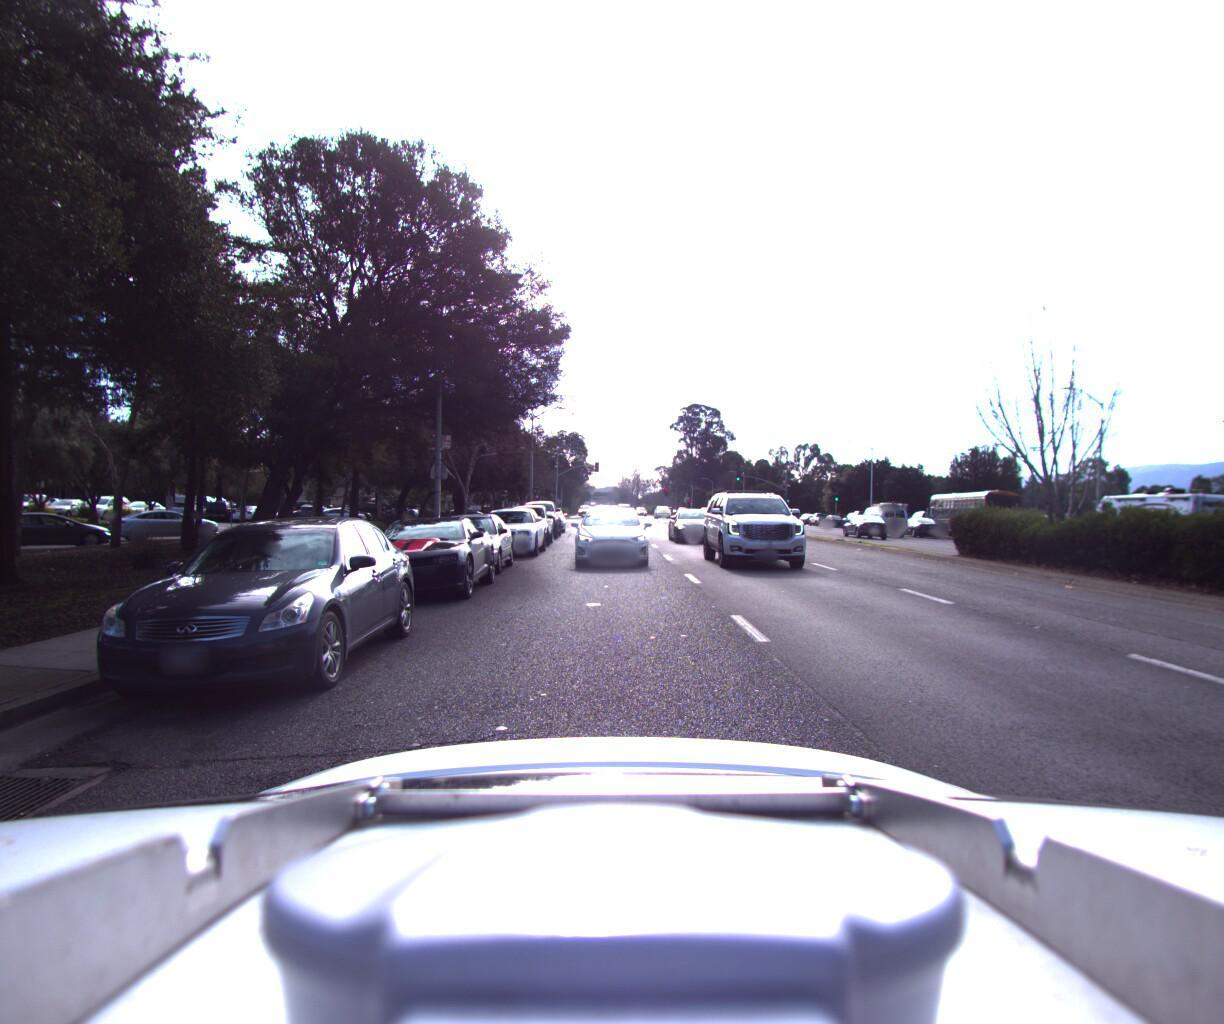bus: (918, 484, 1028, 546)
car: (63, 505, 430, 723), (343, 508, 500, 615), (701, 477, 829, 577), (412, 506, 518, 581), (567, 499, 653, 571), (469, 502, 548, 560), (498, 497, 556, 549), (666, 505, 724, 545), (847, 497, 904, 535), (513, 497, 562, 541), (827, 509, 889, 542), (882, 513, 938, 537)
other_vehicle: (1076, 483, 1224, 564)
